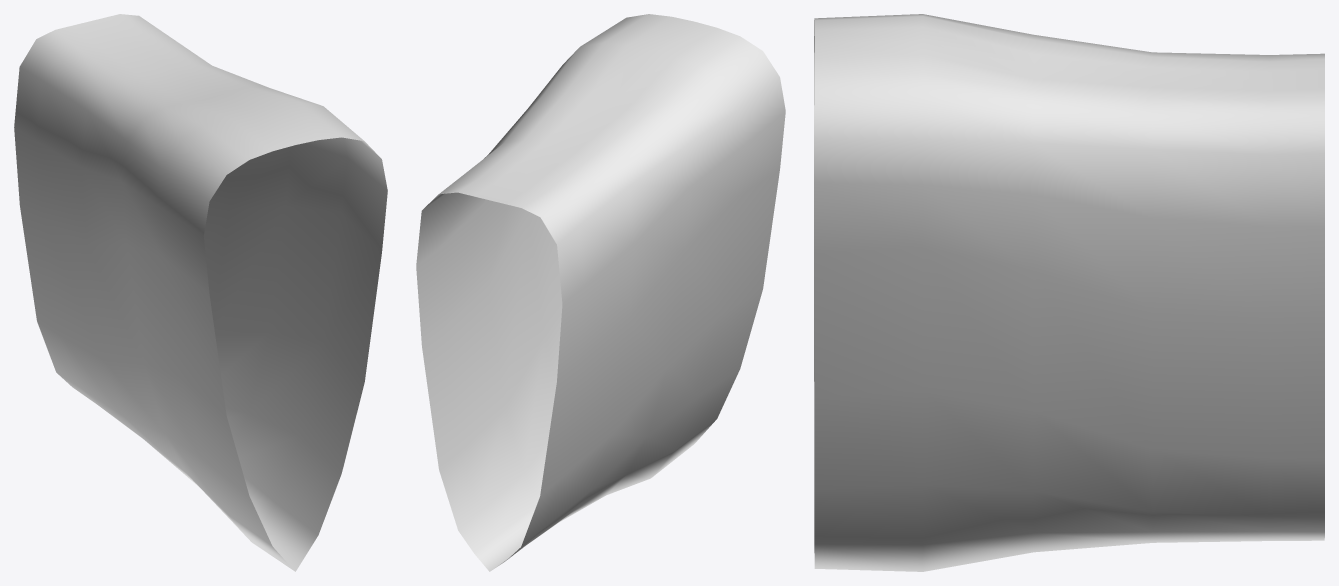
Rendered from Sleeve.fbx.
The picture shows the model from 3 angles, left to right: view 1: azimuth 30°, elevation 25°; view 2: azimuth 150°, elevation 25°; view 3: azimuth 270°, elevation 25°; orthographic projection. The views are drawn at different scales.
Parts seen in each view (by area): view 1: Sleeve; view 2: Sleeve; view 3: Sleeve.
Part boxes in pixels (x1,y1,x2,y2): Sleeve: (14,14,387,571); Sleeve: (416,14,785,571); Sleeve: (814,14,1324,571).
Bounding box in the file's own units: 2.52 × 5.43 × 4.73.
